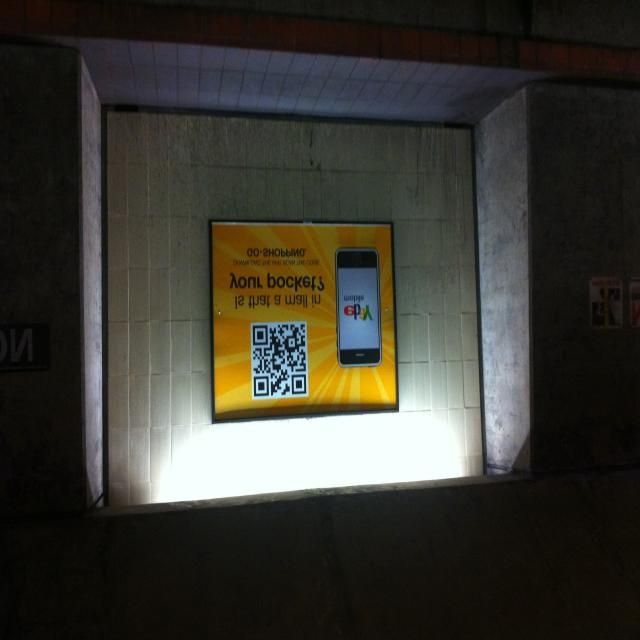qr-code: (252, 324, 306, 397)
